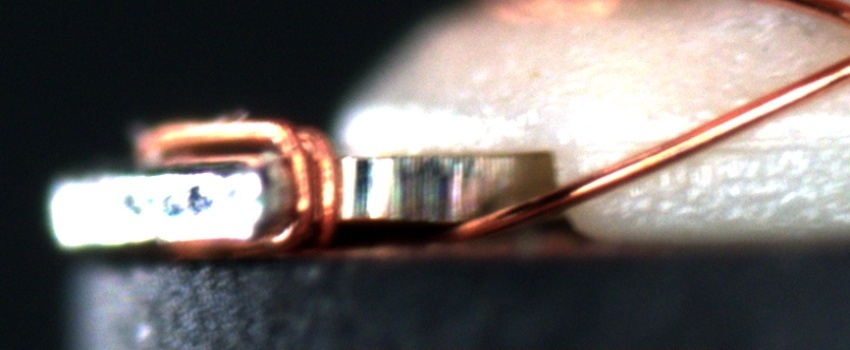DL: (621, 115, 849, 179)
TE: (137, 103, 349, 272)
